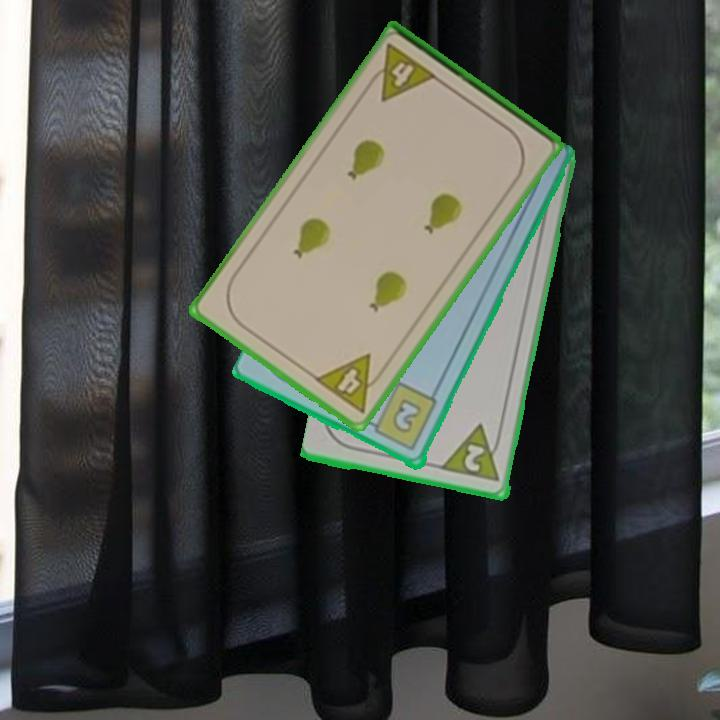2b: (363, 379, 440, 455)
2p: (461, 440, 488, 475)
4p: (310, 350, 391, 416), (362, 40, 440, 105)
